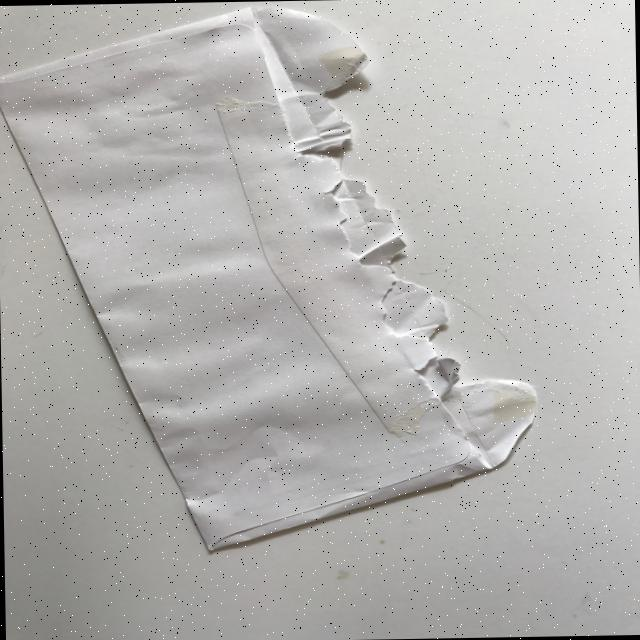paper: (0, 0, 540, 555)
